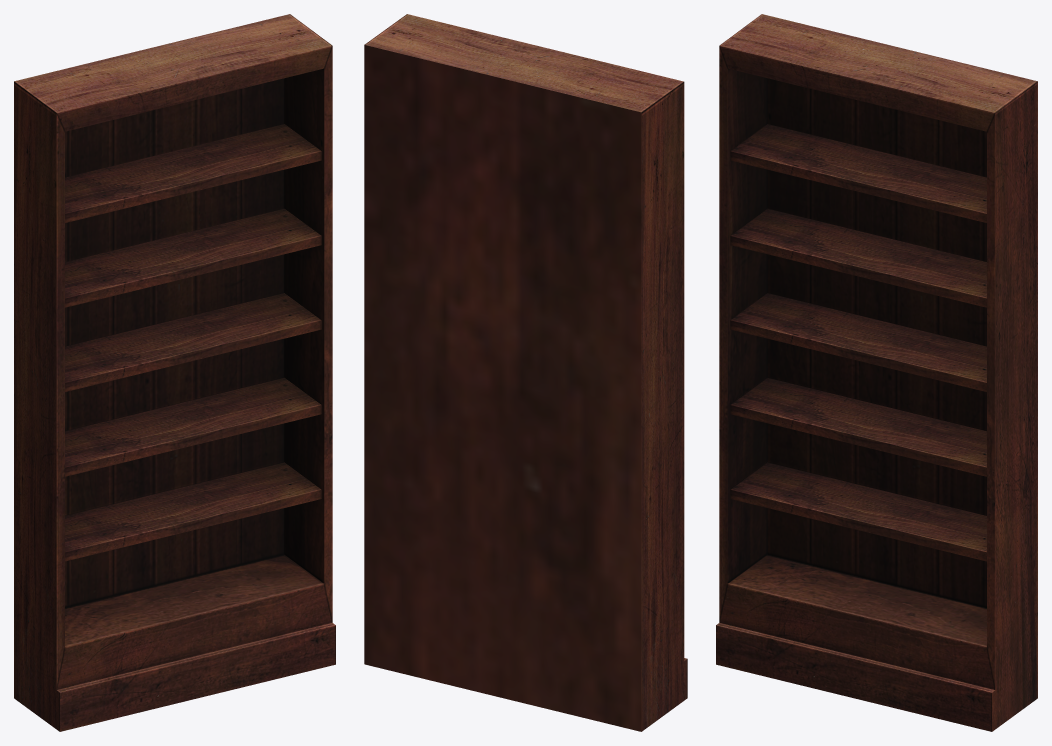
Rendered from Sun_0076_Book_shelves.fbx.
3 views of the same model, side by side, from view 1: azimuth 30°, elevation 25°; view 2: azimuth 150°, elevation 25°; view 3: azimuth 330°, elevation 25° (orthographic).
Visible parts, largest first — view 1: Sun_0076_Book_shelves; view 2: Sun_0076_Book_shelves; view 3: Sun_0076_Book_shelves.
Boxes of the visible parts, <box> form: Sun_0076_Book_shelves: <box>14,14,335,731</box>; Sun_0076_Book_shelves: <box>364,14,687,731</box>; Sun_0076_Book_shelves: <box>716,14,1037,731</box>.
Size of the model in its own units: 105 by 225 by 30.36.
1 material, 1 textured.
